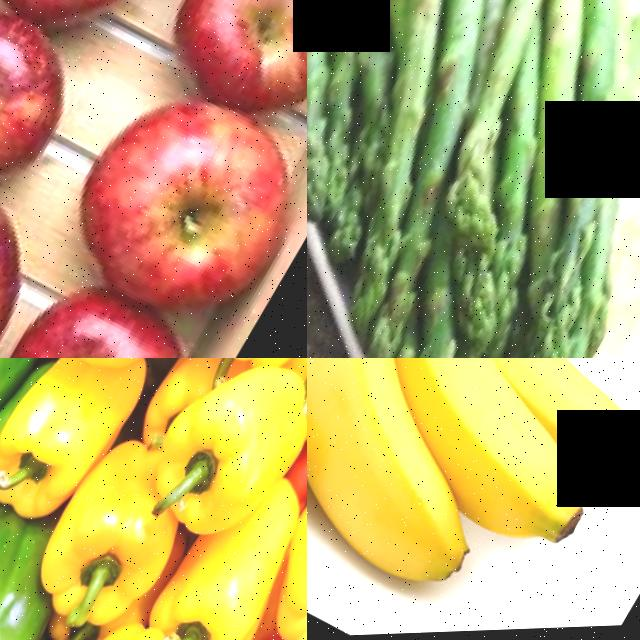apple: (44, 64, 307, 352), (138, 0, 307, 156), (0, 258, 225, 358), (0, 0, 105, 213), (0, 0, 207, 67)
asparagus: (434, 0, 619, 237), (342, 0, 524, 207), (423, 205, 545, 354), (509, 216, 630, 358)
banana: (307, 358, 640, 640)
bell pepper: (144, 369, 307, 549), (22, 475, 174, 636), (0, 358, 135, 536), (134, 536, 277, 640), (249, 474, 307, 640), (0, 533, 74, 640)
